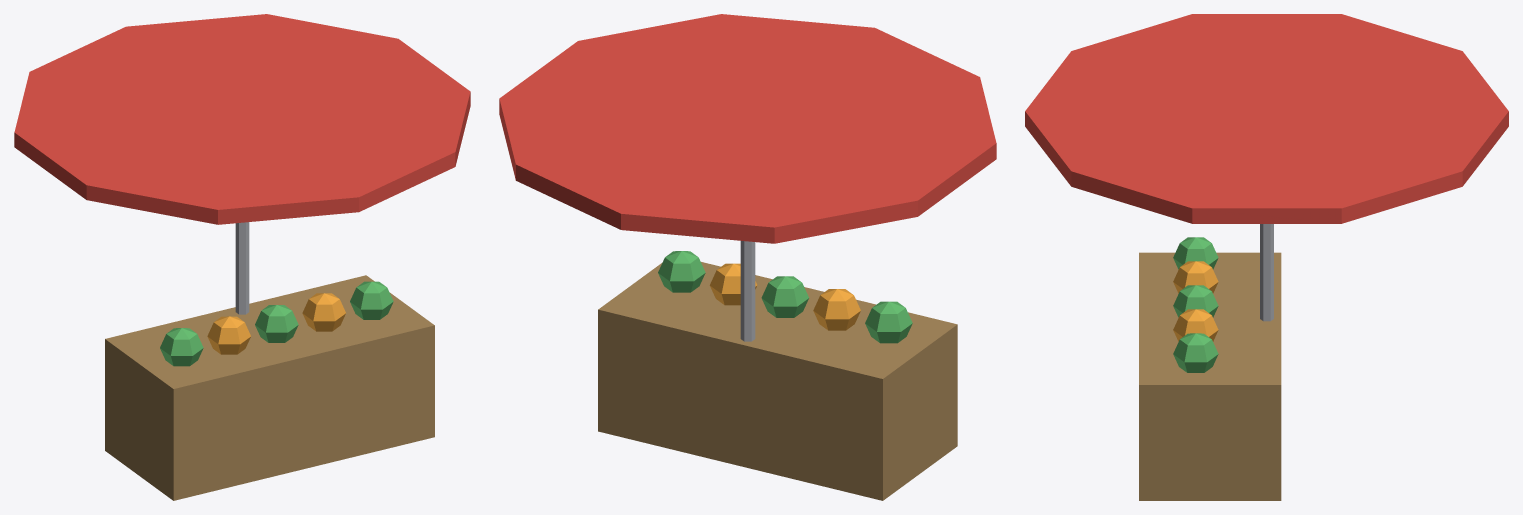
File: EN_MarketStall.glb
3 renders of one model, left to right at view 1: azimuth 30°, elevation 25°; view 2: azimuth 150°, elevation 25°; view 3: azimuth 270°, elevation 25°, orthographic. The views are drawn at different scales.
Parts seen in each view (by area): view 1: EN_MarketStall; view 2: EN_MarketStall; view 3: EN_MarketStall.
Part boxes in pixels (x1=…): EN_MarketStall: x1=14, y1=14, x2=470, y2=500; EN_MarketStall: x1=499, y1=14, x2=996, y2=500; EN_MarketStall: x1=1025, y1=14, x2=1508, y2=500.
Size of the model in its own units: 3.23 by 2.51 by 3.4.
